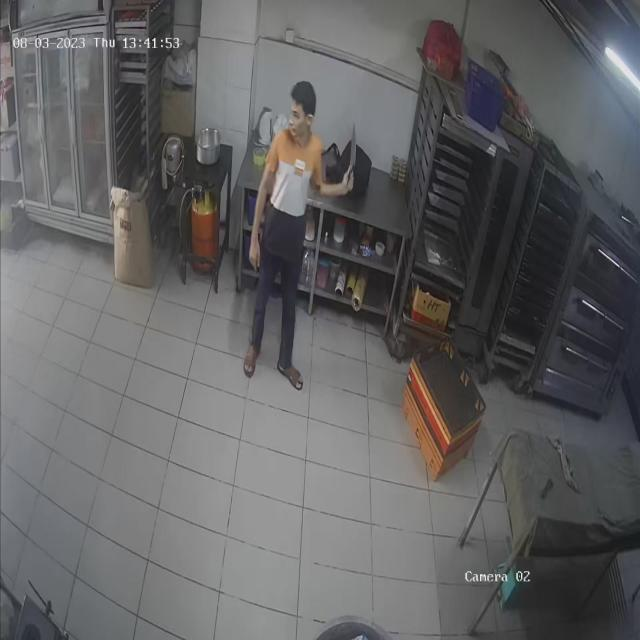Knife: (342, 116, 373, 188)
